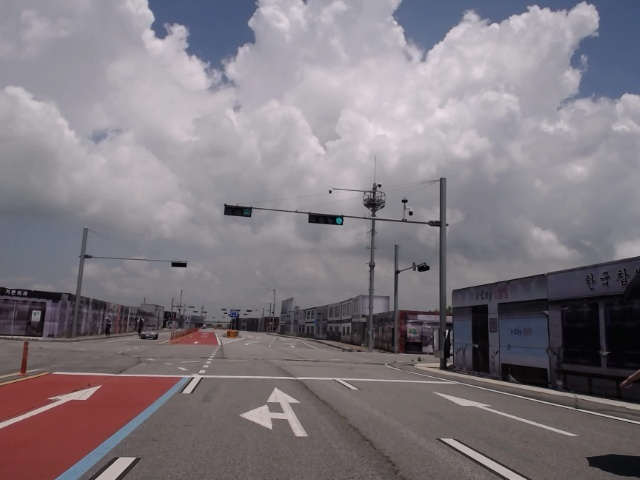straight_green_4: (310, 213, 344, 226)
